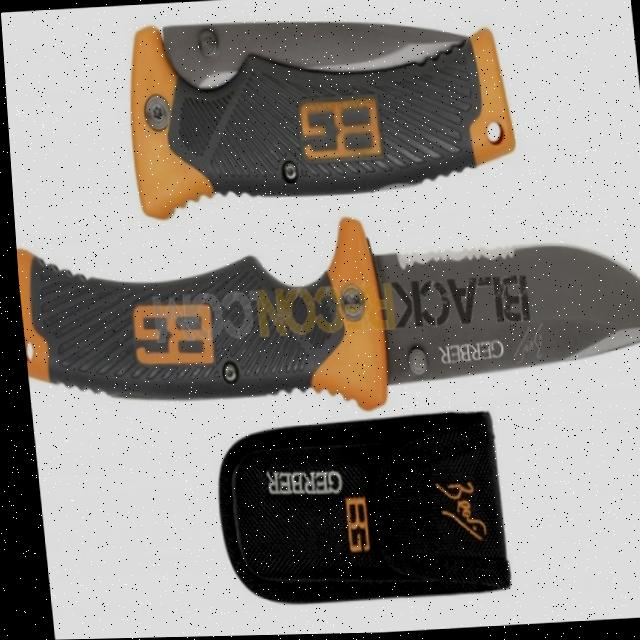knife: (11, 199, 640, 429), (70, 4, 532, 223)
